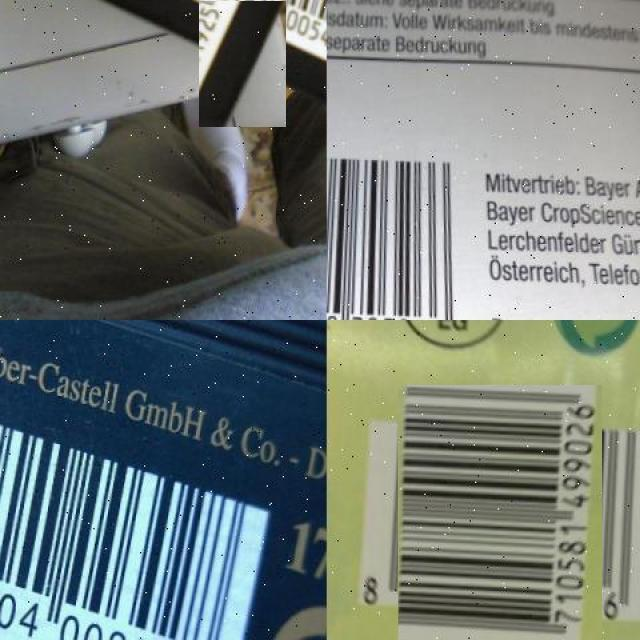Barcode: (1, 399, 271, 640), (379, 404, 621, 640), (327, 137, 476, 320), (179, 0, 307, 108)
